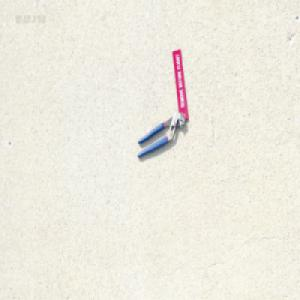Label: (172, 47, 189, 119)
Pliers: (136, 111, 185, 158)
